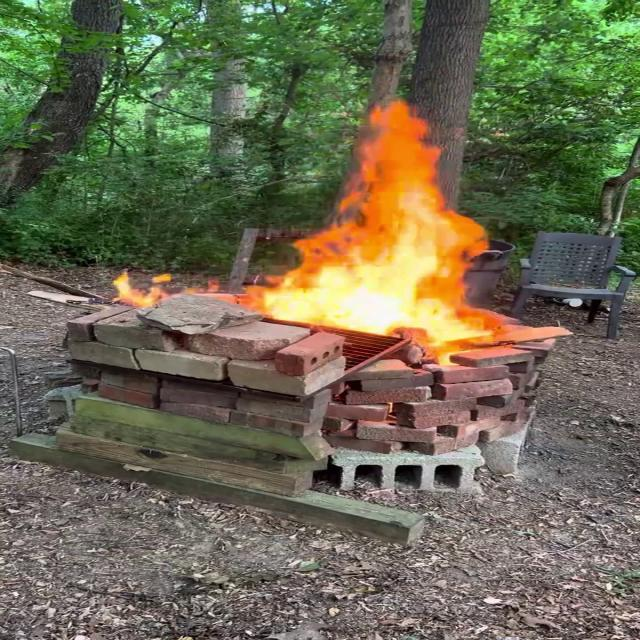Fire: (248, 96, 518, 362), (107, 267, 179, 311)
